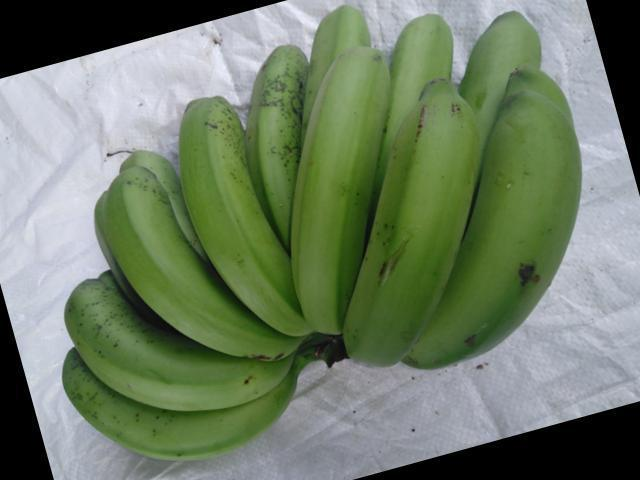freshunripe: (282, 41, 406, 343)
unripe: (435, 90, 576, 404), (354, 82, 456, 408), (53, 278, 295, 411), (166, 100, 291, 327), (38, 354, 283, 463), (104, 166, 242, 342)
